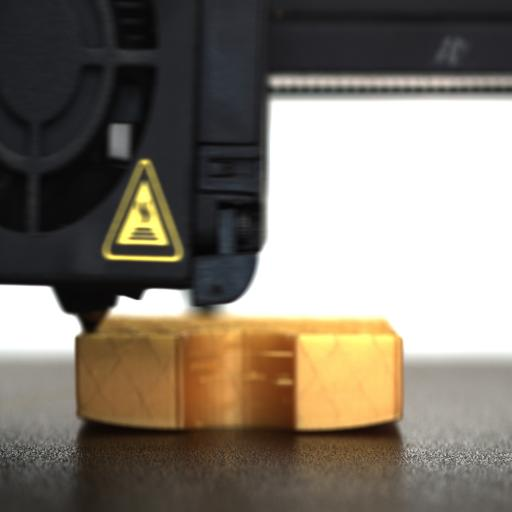warp: (337, 403, 406, 439), (73, 404, 132, 434)
